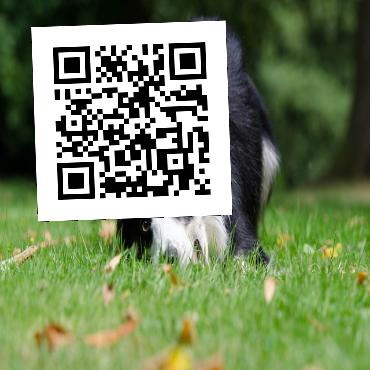qr_code: (31, 20, 232, 221)
